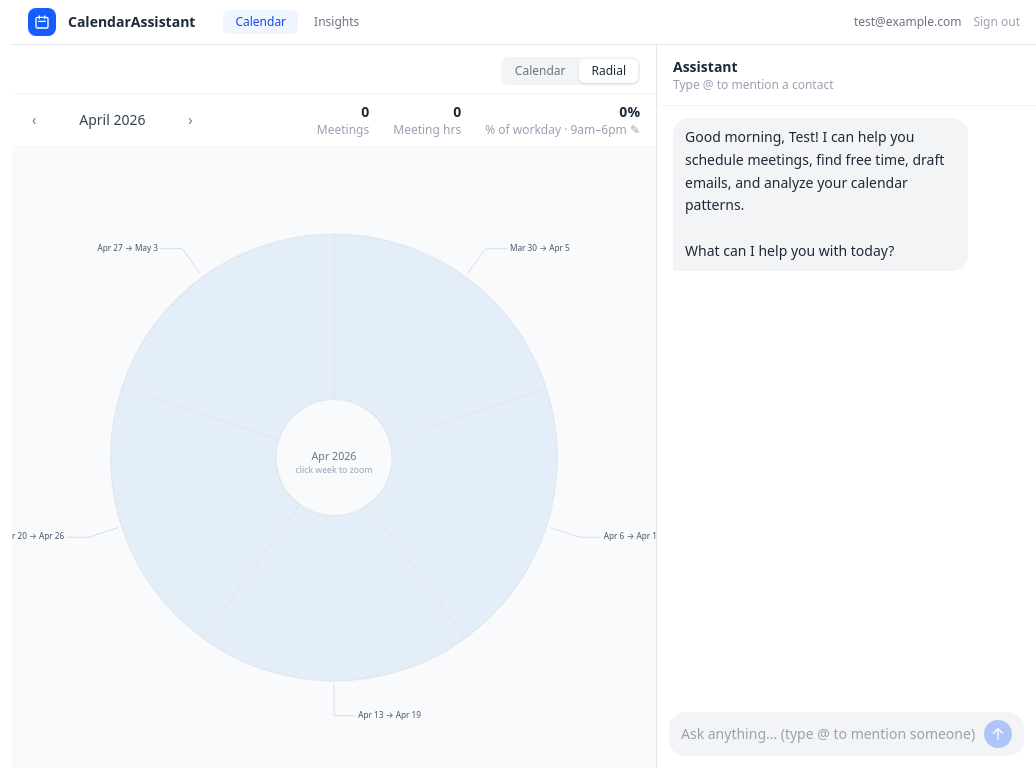
Test: AppShell › switches back to calendar when Calendar tab is clicked
Click the button with test id "main-tab-insights" at (337, 22), box [302,10,371,34]
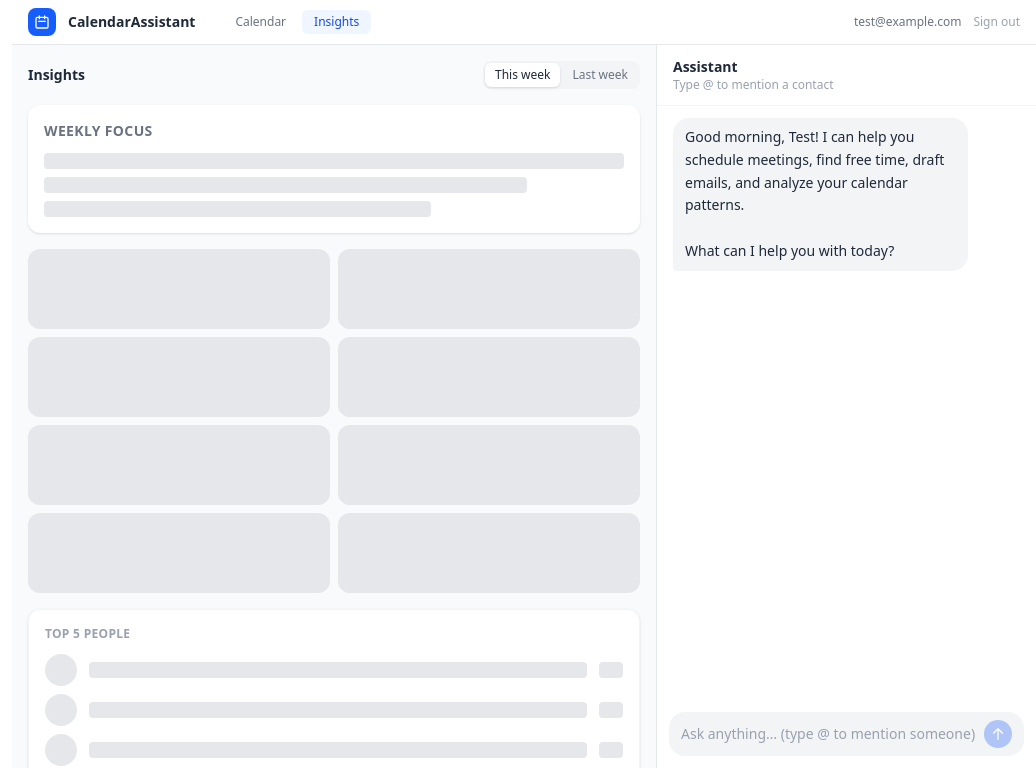
Click the button with test id "main-tab-calendar" at (261, 22), box [223,10,298,34]
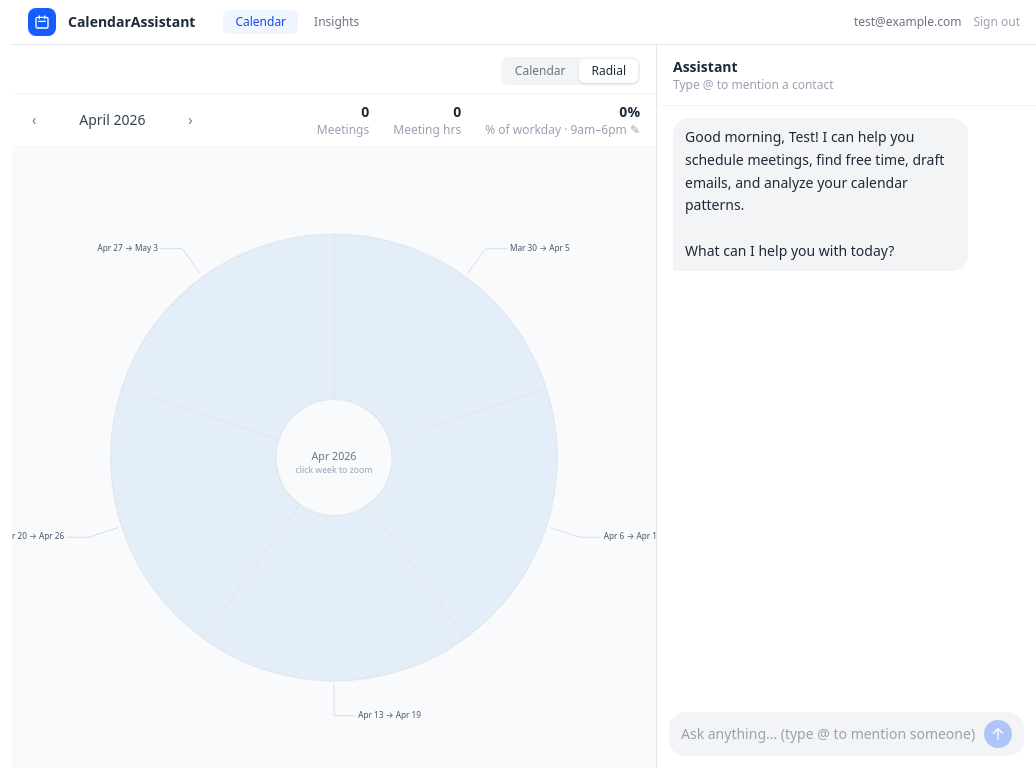
expect the element with test id "calendar-view" is shown: met, box [12,45,656,767]
expect the element with test id "insights-panel" is gone: met
